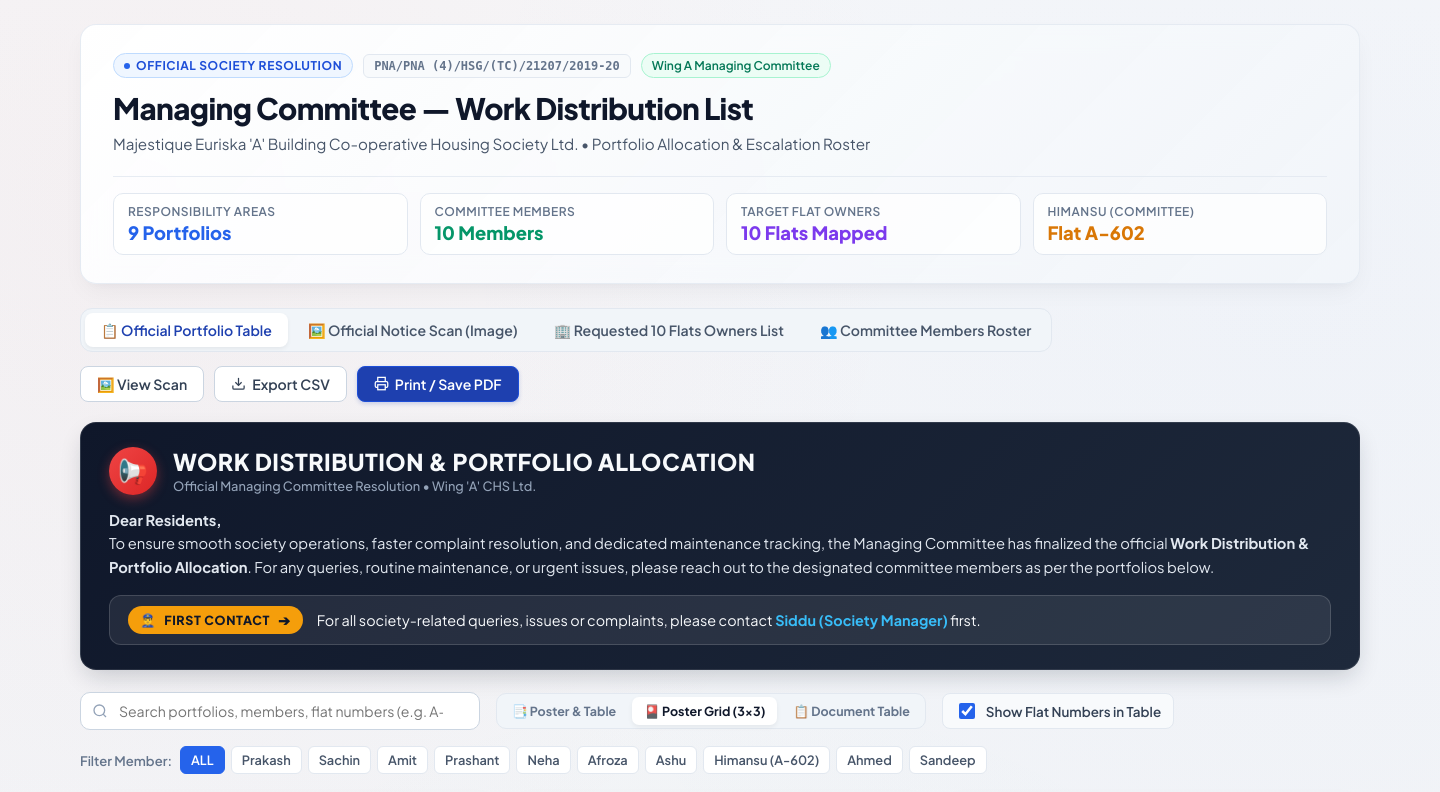
WorkDistributionList Component › switches to Requested 10 Flats tab and displays all 10 flats and owners
// Click on "Requested 10 Flats Owners List" tab
Click the tab "🏢 Requested 10 Flats Owners List" at [669, 330], box [538,313,800,347]
(page scrolled)
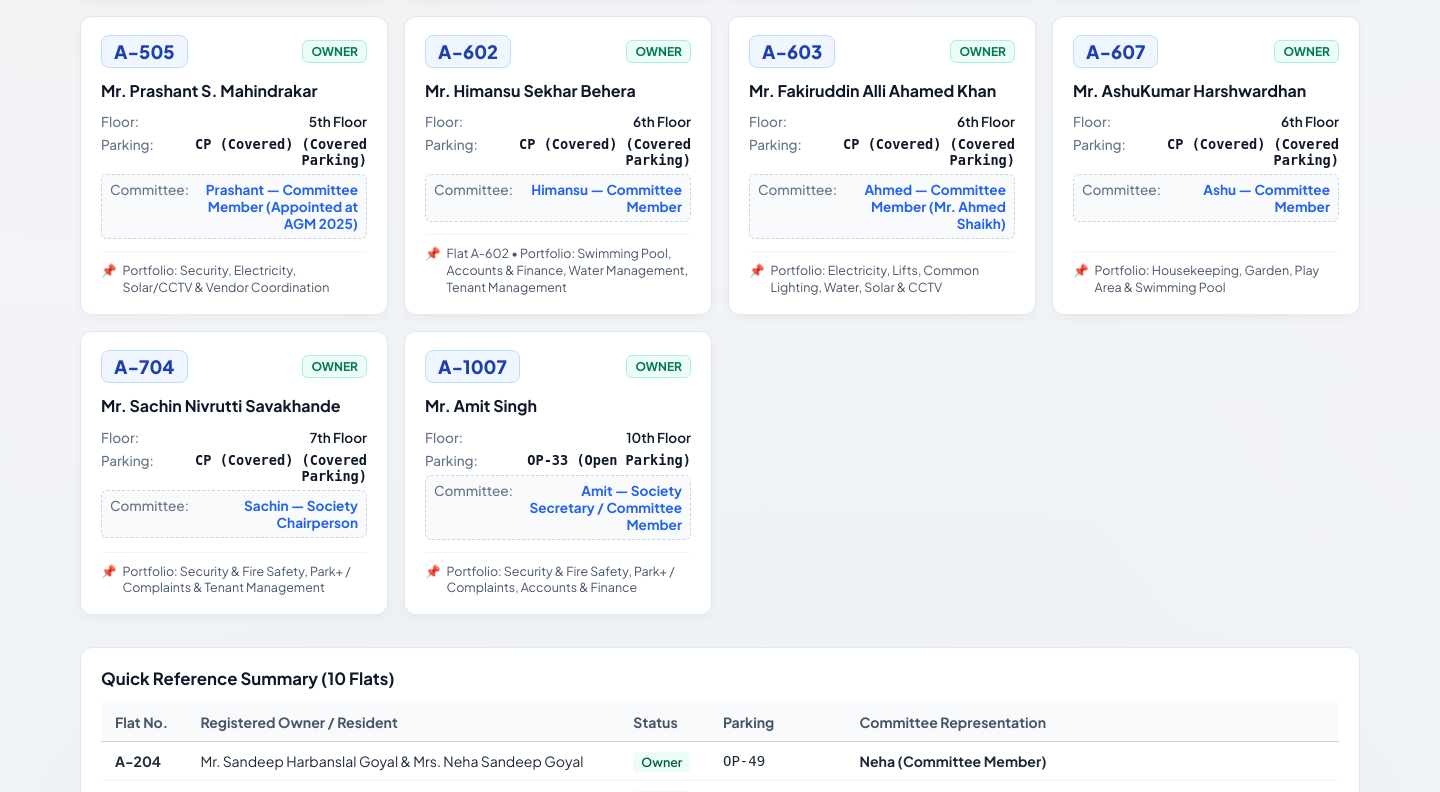
Expected: the text "A-603" is shown, [749,35,835,68]
Expected: the text "A-607" is shown, [1073,35,1158,68]
Expected: the heading "Mr. Prashant S. Mahindrakar" is shown, [101,80,317,101]
